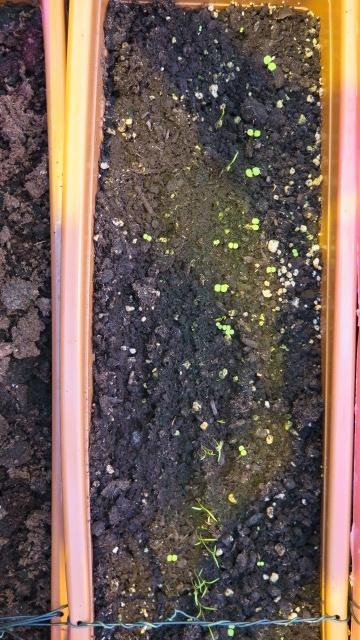weed: (261, 51, 277, 75), (243, 163, 260, 180), (210, 280, 229, 293), (237, 439, 247, 463), (244, 125, 261, 139), (163, 550, 178, 564), (249, 214, 259, 233), (226, 237, 239, 251), (262, 261, 276, 274), (139, 229, 151, 244), (289, 245, 298, 258)
